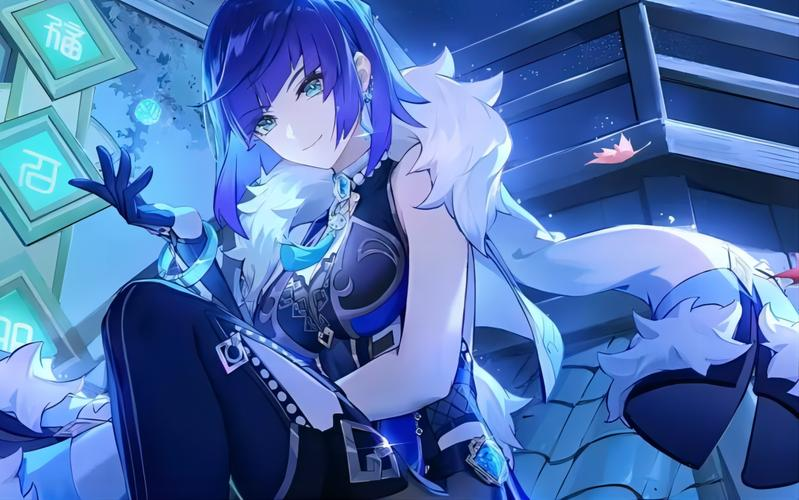夜兰: (67, 4, 579, 500)
